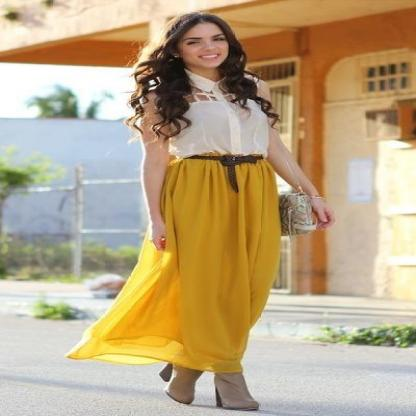bag: (278, 194, 330, 235)
shirt: (169, 75, 268, 157)
shoe: (159, 364, 258, 410)
skirt: (66, 151, 284, 372)
